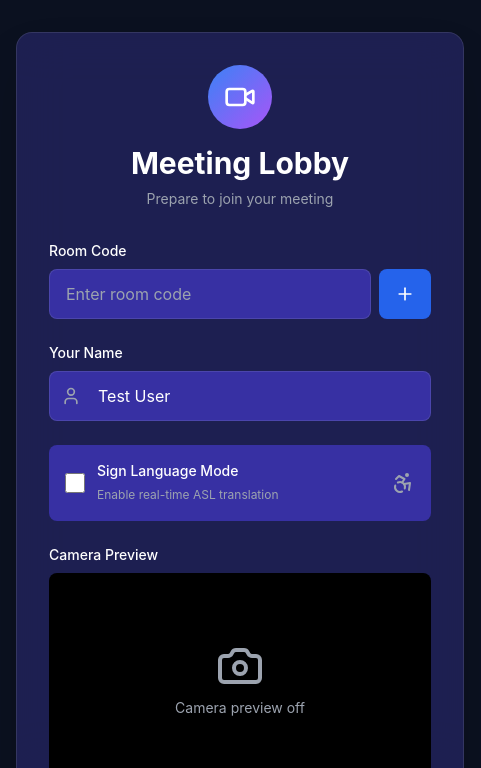
Test: Preservation Property Tests - Non-Camera Functionality › PRESERVATION: Input validation for room code and display name
This screenshot has width=481, height=768.
// Enter invalid room code (too short)
Type "AB" into the field labelled "Room Code" at [210, 294], box [49,269,371,319]
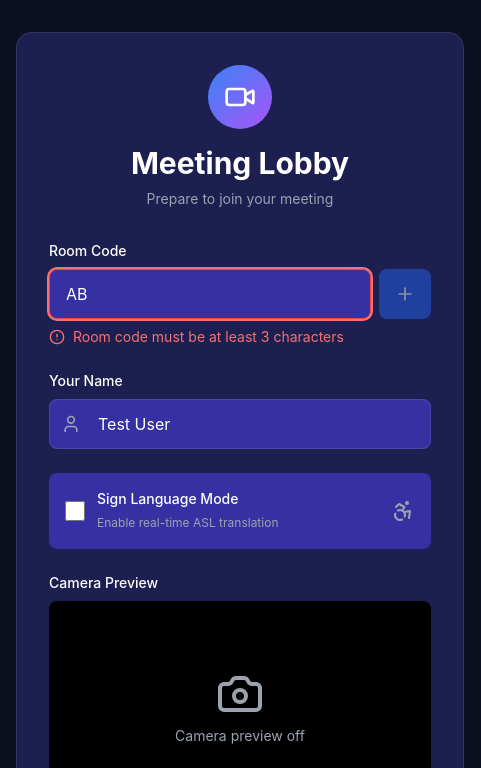
Result: the text "Room code must be at least 3 characters" is shown at [49,328,344,345]
// Enter valid room code
Replace the text in the field labelled "Room Code" with "ABC123" at [210, 294], box [49,269,371,319]
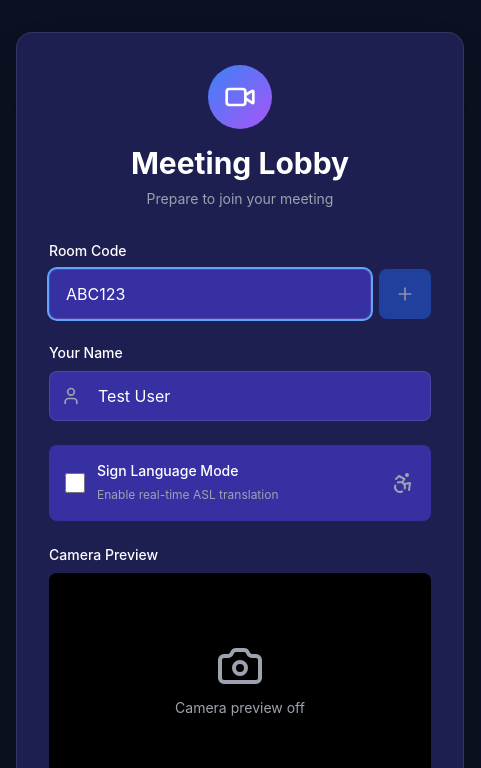
// Enter valid display name
Replace the text in the field labelled "Your Name" with "John Doe" at [240, 396], box [49,371,431,421]
(page scrolled)
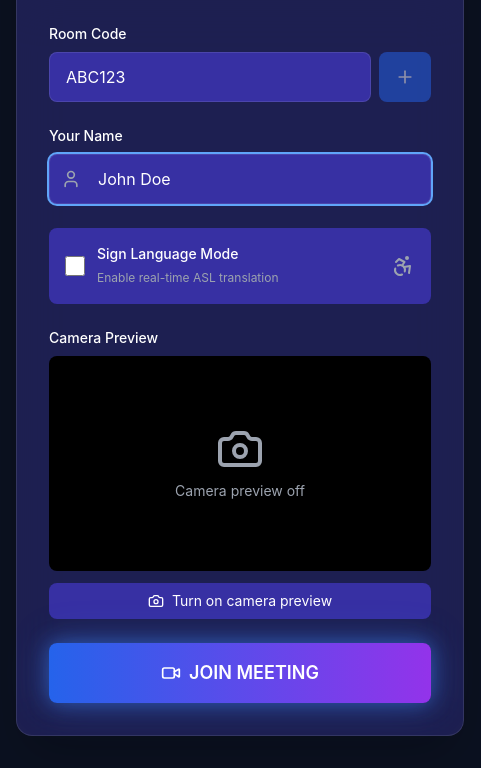
Result: the button "JOIN MEETING" is enabled at [49,643,431,703]
